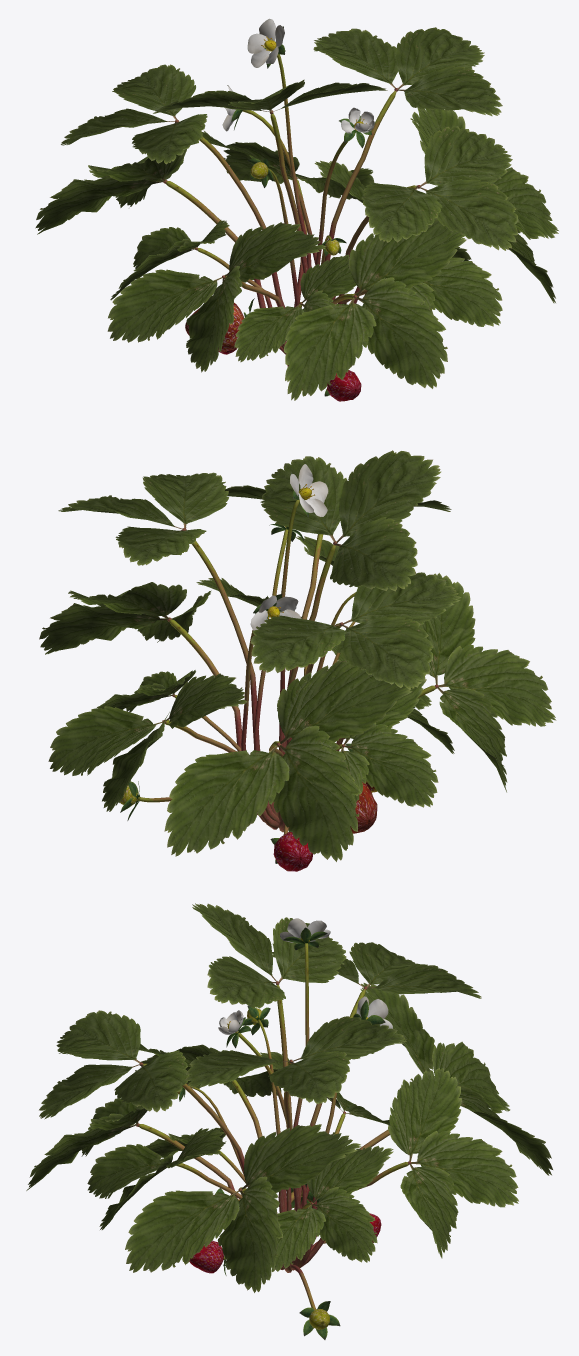
3 views of the same model, one above another, from view 1: azimuth 30°, elevation 25°; view 2: azimuth 150°, elevation 25°; view 3: azimuth 270°, elevation 25° (orthographic). The views are drawn at different scales.
Visible parts, largest first — view 1: leaf2, leaf1, branch1, flower1, leaf3, fruit1, fruit7; view 2: leaf2, leaf1, branch1, flower1, fruit1, fruit7, leaf3; view 3: leaf2, leaf1, branch1, leaf3, flower1, fruit1.
Part boxes in pixels (x1,y1,x2,y2): leaf2: [35, 108, 558, 400]; leaf1: [61, 27, 518, 250]; branch1: [163, 54, 420, 354]; flower1: [222, 18, 374, 133]; leaf3: [231, 26, 372, 396]; fruit1: [218, 348, 361, 401]; fruit7: [185, 302, 243, 351]; leaf2: [39, 536, 556, 861]; leaf1: [58, 450, 461, 689]; branch1: [137, 499, 439, 834]; flower1: [250, 464, 328, 630]; fruit1: [273, 832, 313, 871]; fruit7: [350, 782, 377, 833]; leaf3: [120, 472, 352, 863]; leaf2: [26, 983, 552, 1292]; leaf1: [39, 903, 481, 1119]; branch1: [135, 943, 411, 1310]; leaf3: [179, 927, 385, 1339]; flower1: [218, 918, 393, 1034]; fruit1: [189, 1213, 381, 1273].
Size of the model in its own units: 0.6433 by 0.6783 by 0.4833.
